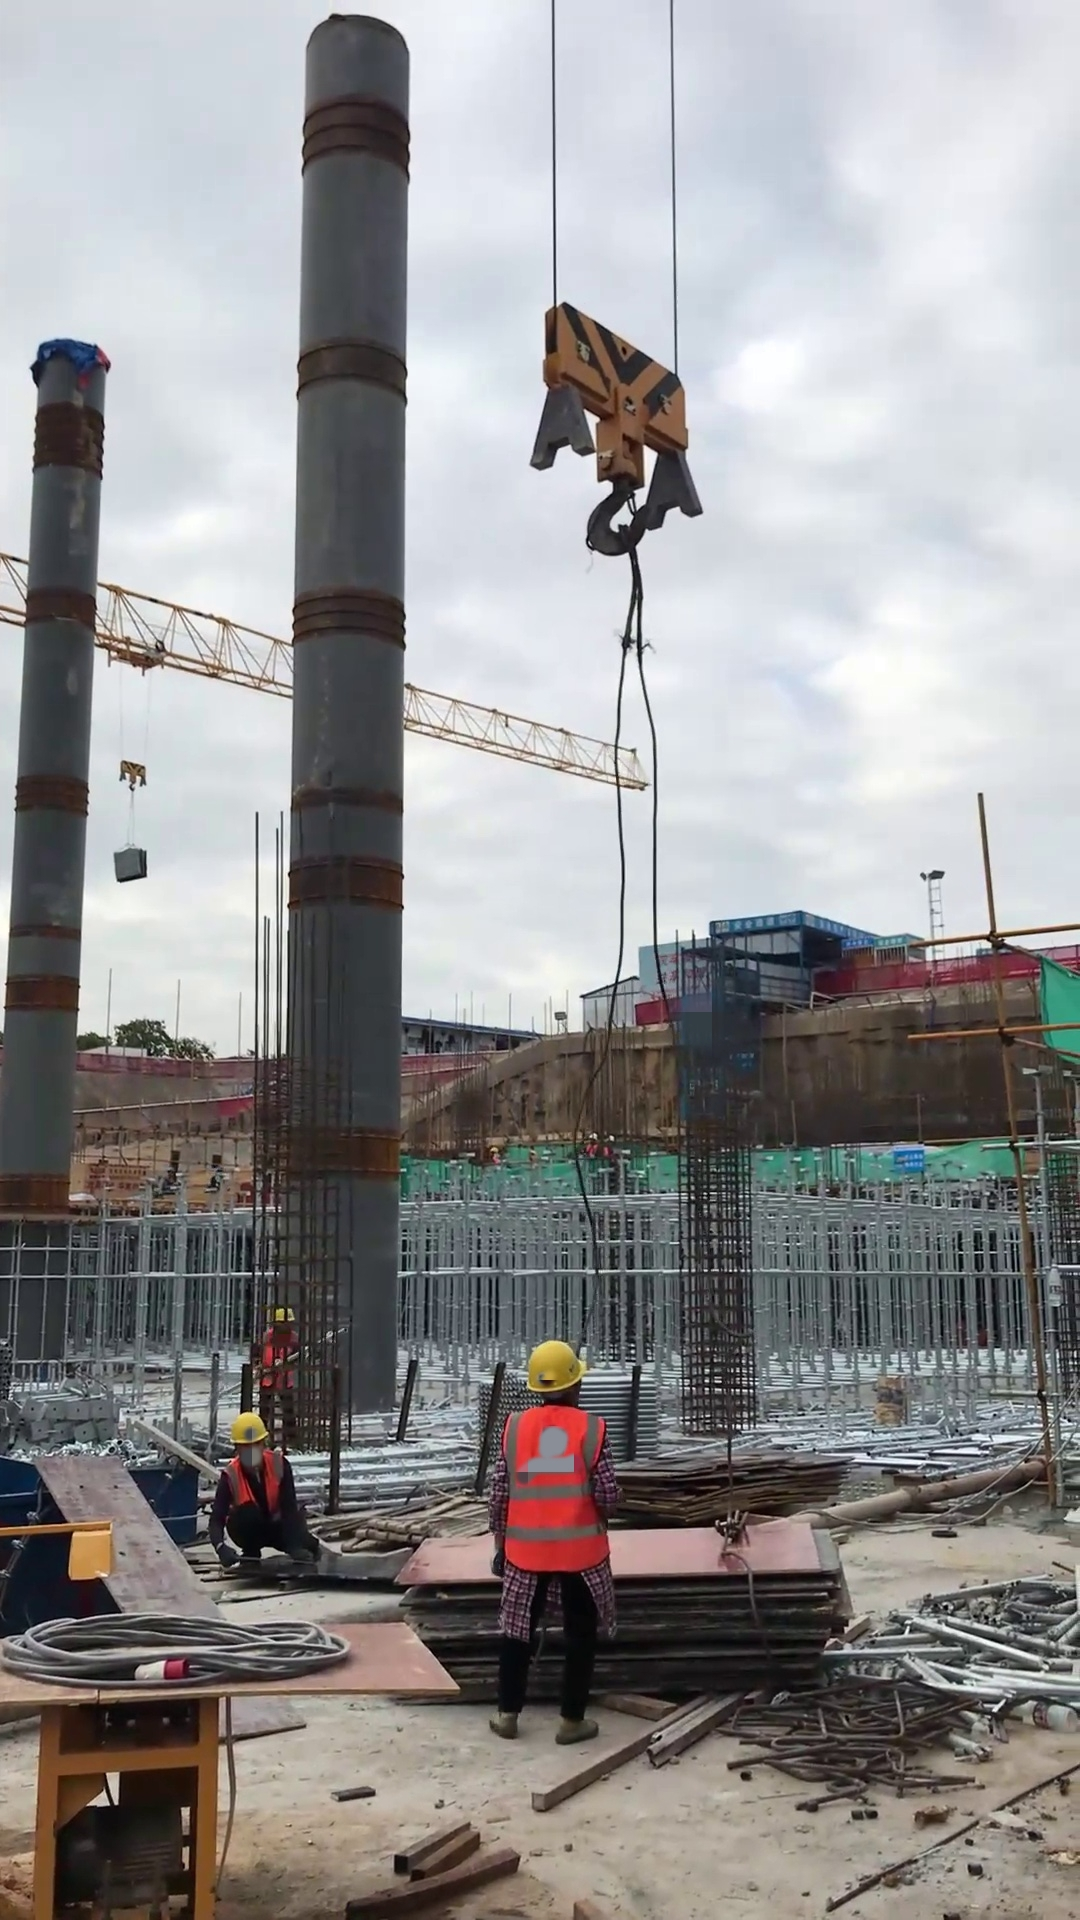board: (395, 1522, 845, 1702), (614, 1448, 858, 1527)
cutter: (1, 1514, 450, 1920)
helmet: (523, 1339, 588, 1400), (227, 1410, 271, 1445), (271, 1306, 295, 1326)
hook: (530, 300, 709, 563), (116, 756, 147, 792)
hopper: (1, 1451, 200, 1638)
person: (486, 1335, 624, 1746), (206, 1409, 322, 1575), (253, 1305, 304, 1444)
scaffold: (473, 1363, 663, 1467), (294, 1432, 478, 1514)
slogan: (713, 911, 909, 947), (646, 940, 704, 986), (890, 1142, 924, 1174)
vest: (499, 1398, 609, 1576), (222, 1448, 287, 1523), (260, 1325, 299, 1390)
